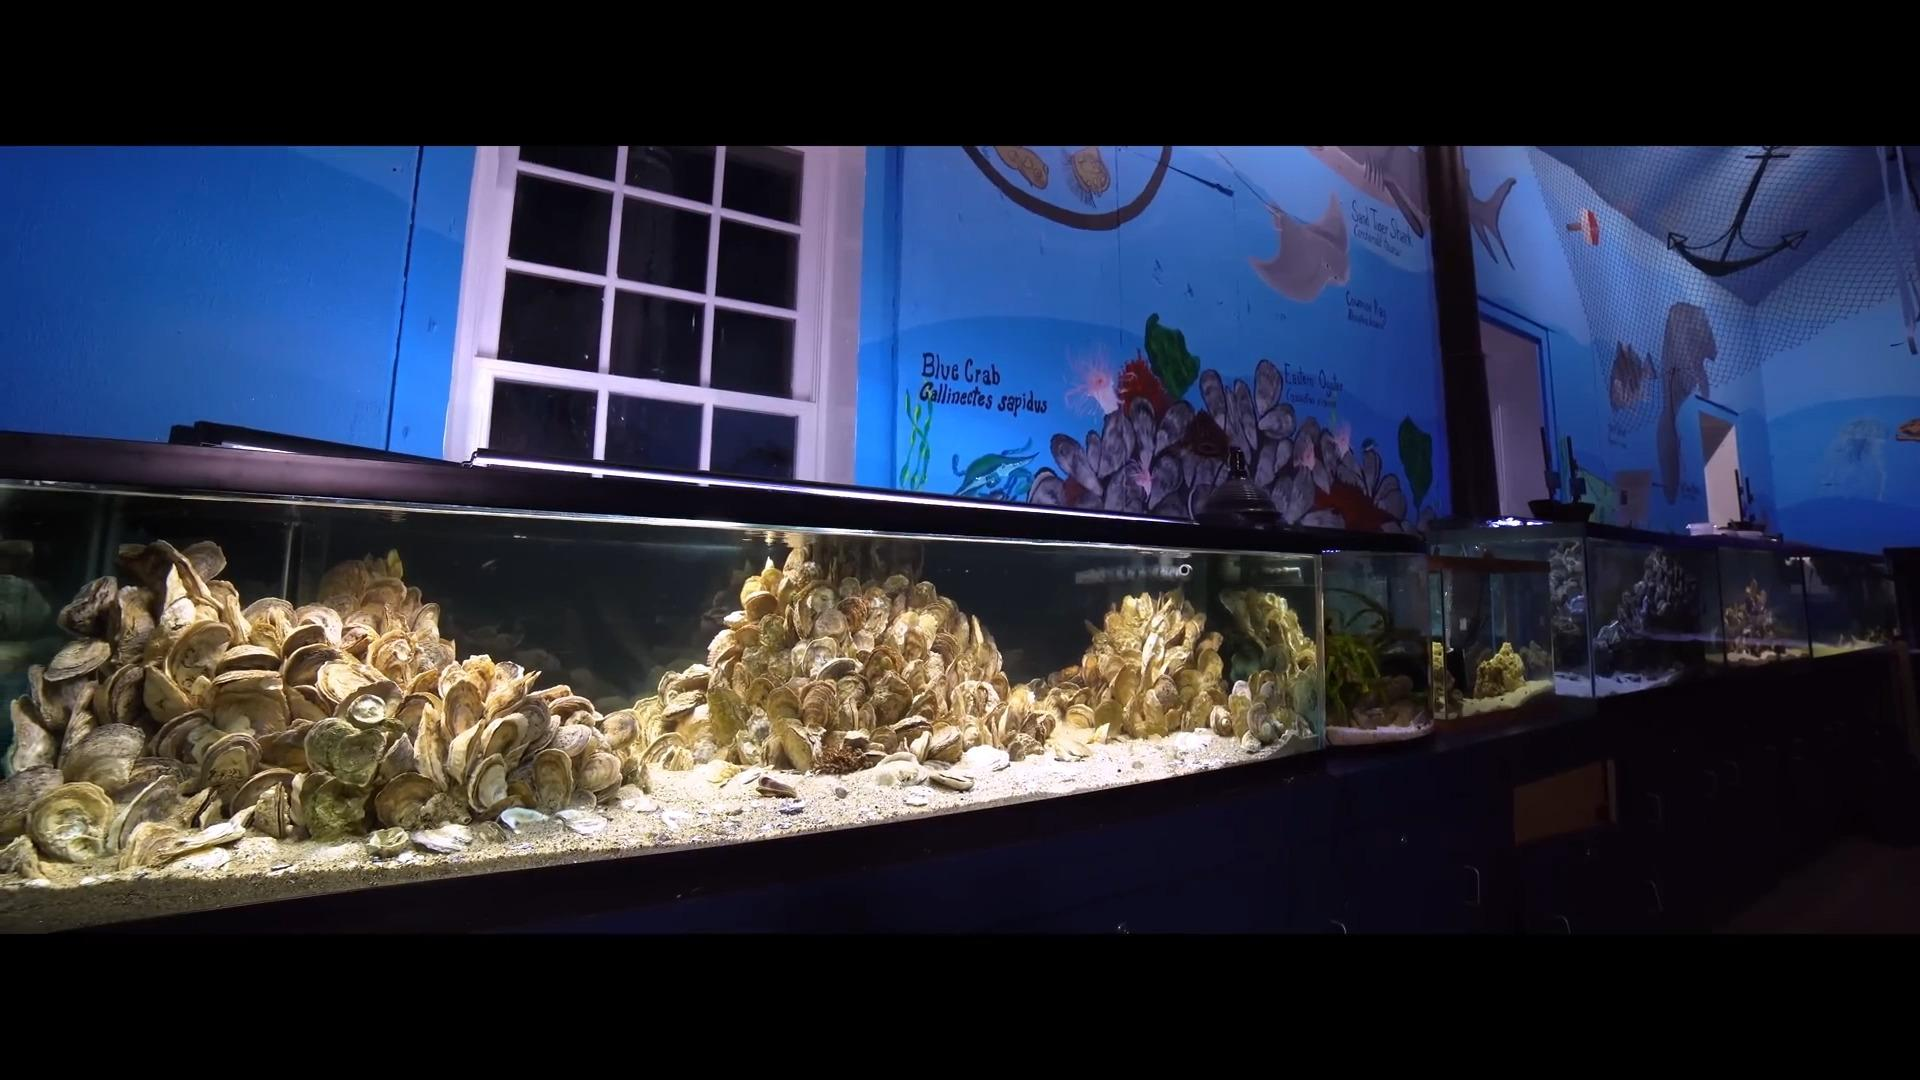Oyster: (25, 779, 116, 866), (108, 773, 195, 852), (150, 808, 257, 869), (61, 719, 148, 791), (135, 538, 219, 607), (0, 762, 67, 841), (301, 775, 376, 841), (372, 770, 440, 835), (167, 621, 233, 687), (57, 574, 121, 640), (7, 694, 59, 773), (302, 716, 364, 781), (198, 732, 261, 793), (140, 662, 195, 729), (42, 638, 113, 687), (57, 691, 103, 765), (117, 822, 182, 873), (529, 746, 576, 816), (465, 756, 513, 820), (1042, 712, 1105, 760), (252, 783, 306, 837), (707, 680, 752, 745), (866, 671, 915, 725), (640, 735, 696, 781), (770, 719, 815, 775), (575, 748, 625, 796), (551, 720, 604, 766), (798, 680, 839, 733), (179, 539, 227, 584), (597, 708, 641, 756), (215, 645, 281, 675), (0, 832, 41, 880), (920, 724, 967, 765), (343, 690, 390, 728), (887, 713, 934, 746), (1149, 676, 1187, 716), (365, 825, 413, 857), (662, 694, 708, 725), (740, 588, 782, 622), (814, 657, 864, 683), (1027, 709, 1058, 744), (1207, 704, 1234, 738), (837, 729, 872, 754), (705, 758, 740, 783), (1004, 732, 1033, 761), (690, 736, 719, 765), (1257, 717, 1284, 745), (1240, 731, 1265, 753)
